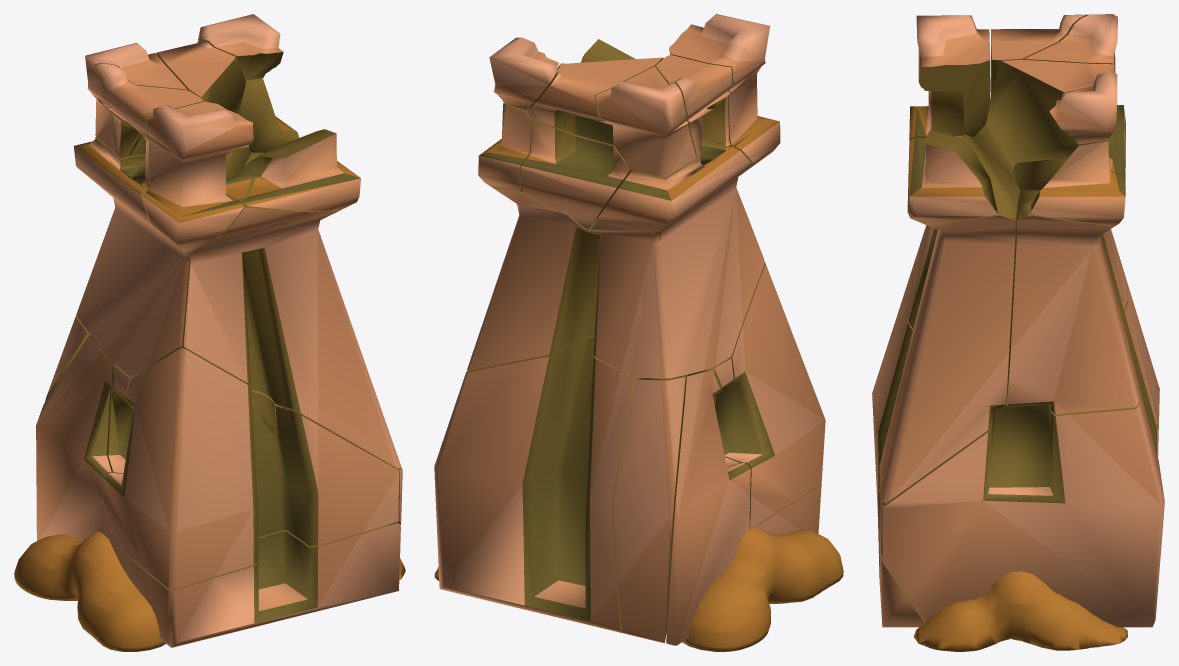
File: B TorreDePiedraMeshFracture.fbx
3 renders of one model, left to right at view 1: azimuth 30°, elevation 25°; view 2: azimuth 150°, elevation 25°; view 3: azimuth 270°, elevation 25°, orthographic. The views are drawn at different scales.
Visible parts, largest first — view 1: TorreDePiedra.001_cell.004, TorreDePiedra.001_cell.012, TorreDePiedra.001_cell.015, TorreDePiedra.001_cell.011, TorreDePiedra.001_cell.001, TorreDePiedra.001_cell.002, TorreDePiedra.002, TorreDePiedra.001_cell.005, TorreDePiedra.001_cell.019, TorreDePiedra.001_cell.009, TorreDePiedra.001_cell.010, TorreDePiedra.001_cell.014 (+3 smaller); view 2: TorreDePiedra.001_cell.003, TorreDePiedra.001_cell.011, TorreDePiedra.001_cell.004, TorreDePiedra.001_cell.016, TorreDePiedra.001_cell.017, TorreDePiedra.001_cell.001, TorreDePiedra.002, TorreDePiedra.001_cell.010, TorreDePiedra.001_cell.006, TorreDePiedra.001_cell.002, TorreDePiedra.001_cell.009, TorreDePiedra.001_cell.019 (+4 smaller); view 3: TorreDePiedra.001_cell.003, TorreDePiedra.001_cell.012, TorreDePiedra.001_cell.016, TorreDePiedra.002, TorreDePiedra.001_cell.002, TorreDePiedra.001_cell.009, TorreDePiedra.001_cell.005, TorreDePiedra.001_cell.013, TorreDePiedra.001_cell.004, TorreDePiedra.001_cell.014, TorreDePiedra.001_cell.010, TorreDePiedra.001_cell.019 (+4 smaller).
Part boxes in pixels (<box>): TorreDePiedra.001_cell.004: <box>103,348,398,588</box>; TorreDePiedra.001_cell.012: <box>183,176,401,468</box>; TorreDePiedra.001_cell.015: <box>109,522,400,647</box>; TorreDePiedra.001_cell.011: <box>73,136,190,376</box>; TorreDePiedra.001_cell.001: <box>36,335,112,541</box>; TorreDePiedra.001_cell.002: <box>141,101,253,251</box>; TorreDePiedra.002: <box>14,532,405,651</box>; TorreDePiedra.001_cell.005: <box>236,129,360,211</box>; TorreDePiedra.001_cell.019: <box>95,63,203,187</box>; TorreDePiedra.001_cell.009: <box>156,41,245,114</box>; TorreDePiedra.001_cell.010: <box>85,43,187,156</box>; TorreDePiedra.001_cell.014: <box>198,14,283,80</box>; TorreDePiedra.001_cell.003: <box>434,335,740,633</box>; TorreDePiedra.001_cell.011: <box>590,138,764,378</box>; TorreDePiedra.001_cell.004: <box>715,261,825,528</box>; TorreDePiedra.001_cell.016: <box>467,187,599,370</box>; TorreDePiedra.001_cell.017: <box>613,375,686,643</box>; TorreDePiedra.001_cell.001: <box>666,369,750,645</box>; TorreDePiedra.002: <box>434,526,843,651</box>; TorreDePiedra.001_cell.010: <box>595,66,696,177</box>; TorreDePiedra.001_cell.006: <box>521,122,631,229</box>; TorreDePiedra.001_cell.002: <box>669,14,780,167</box>; TorreDePiedra.001_cell.009: <box>527,57,663,146</box>; TorreDePiedra.001_cell.019: <box>656,54,732,157</box>; TorreDePiedra.001_cell.003: <box>882,302,1164,627</box>; TorreDePiedra.001_cell.012: <box>881,134,1019,503</box>; TorreDePiedra.001_cell.016: <box>1007,190,1138,414</box>; TorreDePiedra.002: <box>913,571,1127,651</box>; TorreDePiedra.001_cell.002: <box>909,15,990,140</box>; TorreDePiedra.001_cell.009: <box>986,59,1114,162</box>; TorreDePiedra.001_cell.005: <box>907,132,997,222</box>; TorreDePiedra.001_cell.013: <box>1030,140,1125,225</box>; TorreDePiedra.001_cell.004: <box>872,248,919,554</box>; TorreDePiedra.001_cell.014: <box>1049,72,1117,144</box>; TorreDePiedra.001_cell.010: <box>1023,14,1117,72</box>; TorreDePiedra.001_cell.019: <box>990,14,1090,94</box>.
Bounding box in the file's own units: 472 × 734 × 373.
1 material, 1 textured.
